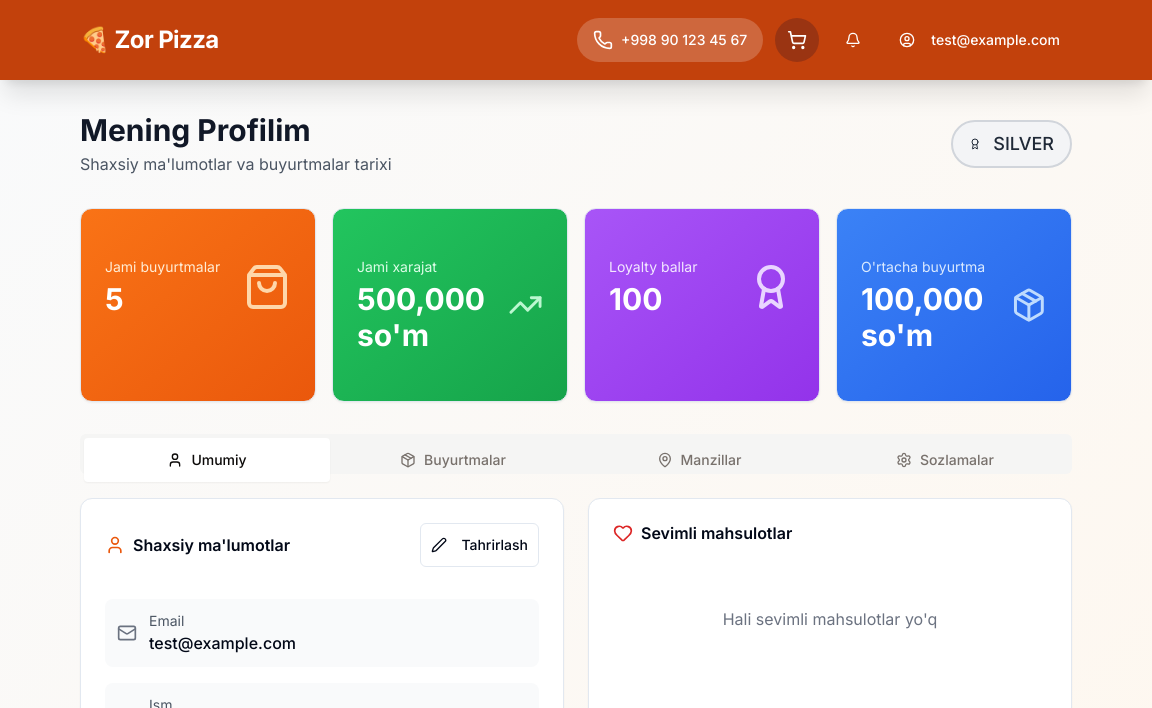
ProfilePage › should show Settings tab content when Sozlamalar tab is clicked
Check: the heading "Mening Profilim" is shown, box top-left (80, 112), bottom-right (311, 148)
Click the tab "Sozlamalar" at (945, 460), box top-left (822, 438), bottom-right (1068, 482)
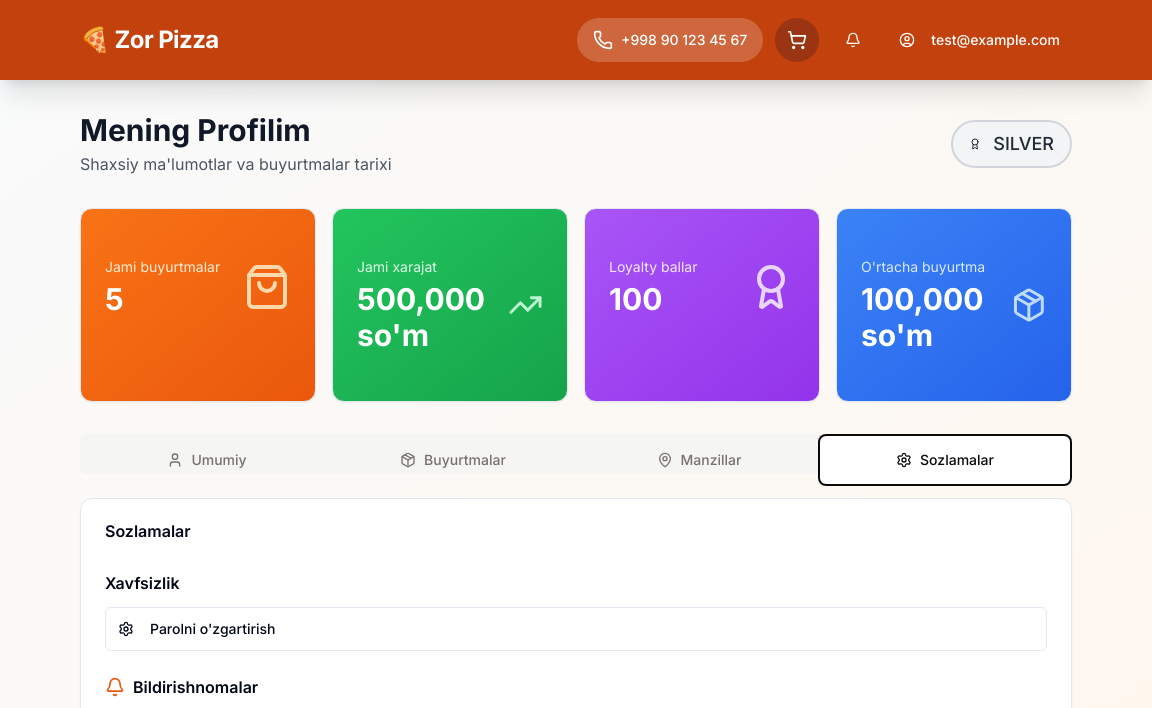
Check: the heading "Bildirishnomalar" is shown, box top-left (105, 677), bottom-right (258, 697)
